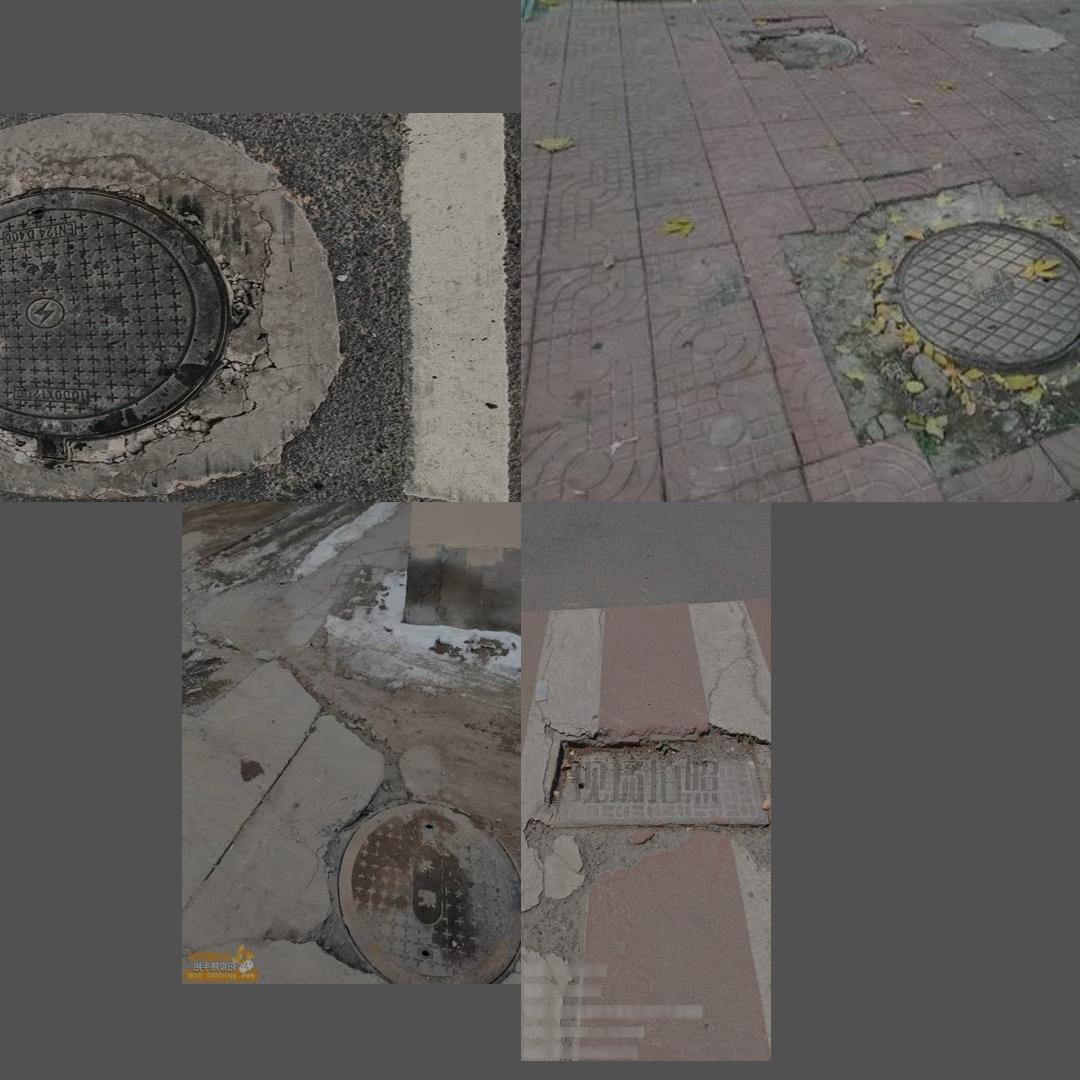circle: (0, 122, 338, 494), (797, 178, 1080, 469), (278, 786, 516, 979), (541, 734, 771, 833)
